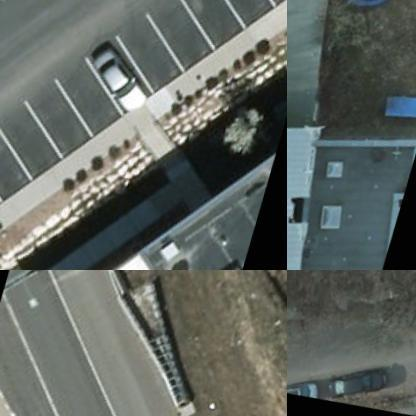car: (80, 42, 164, 124), (326, 352, 394, 408)
